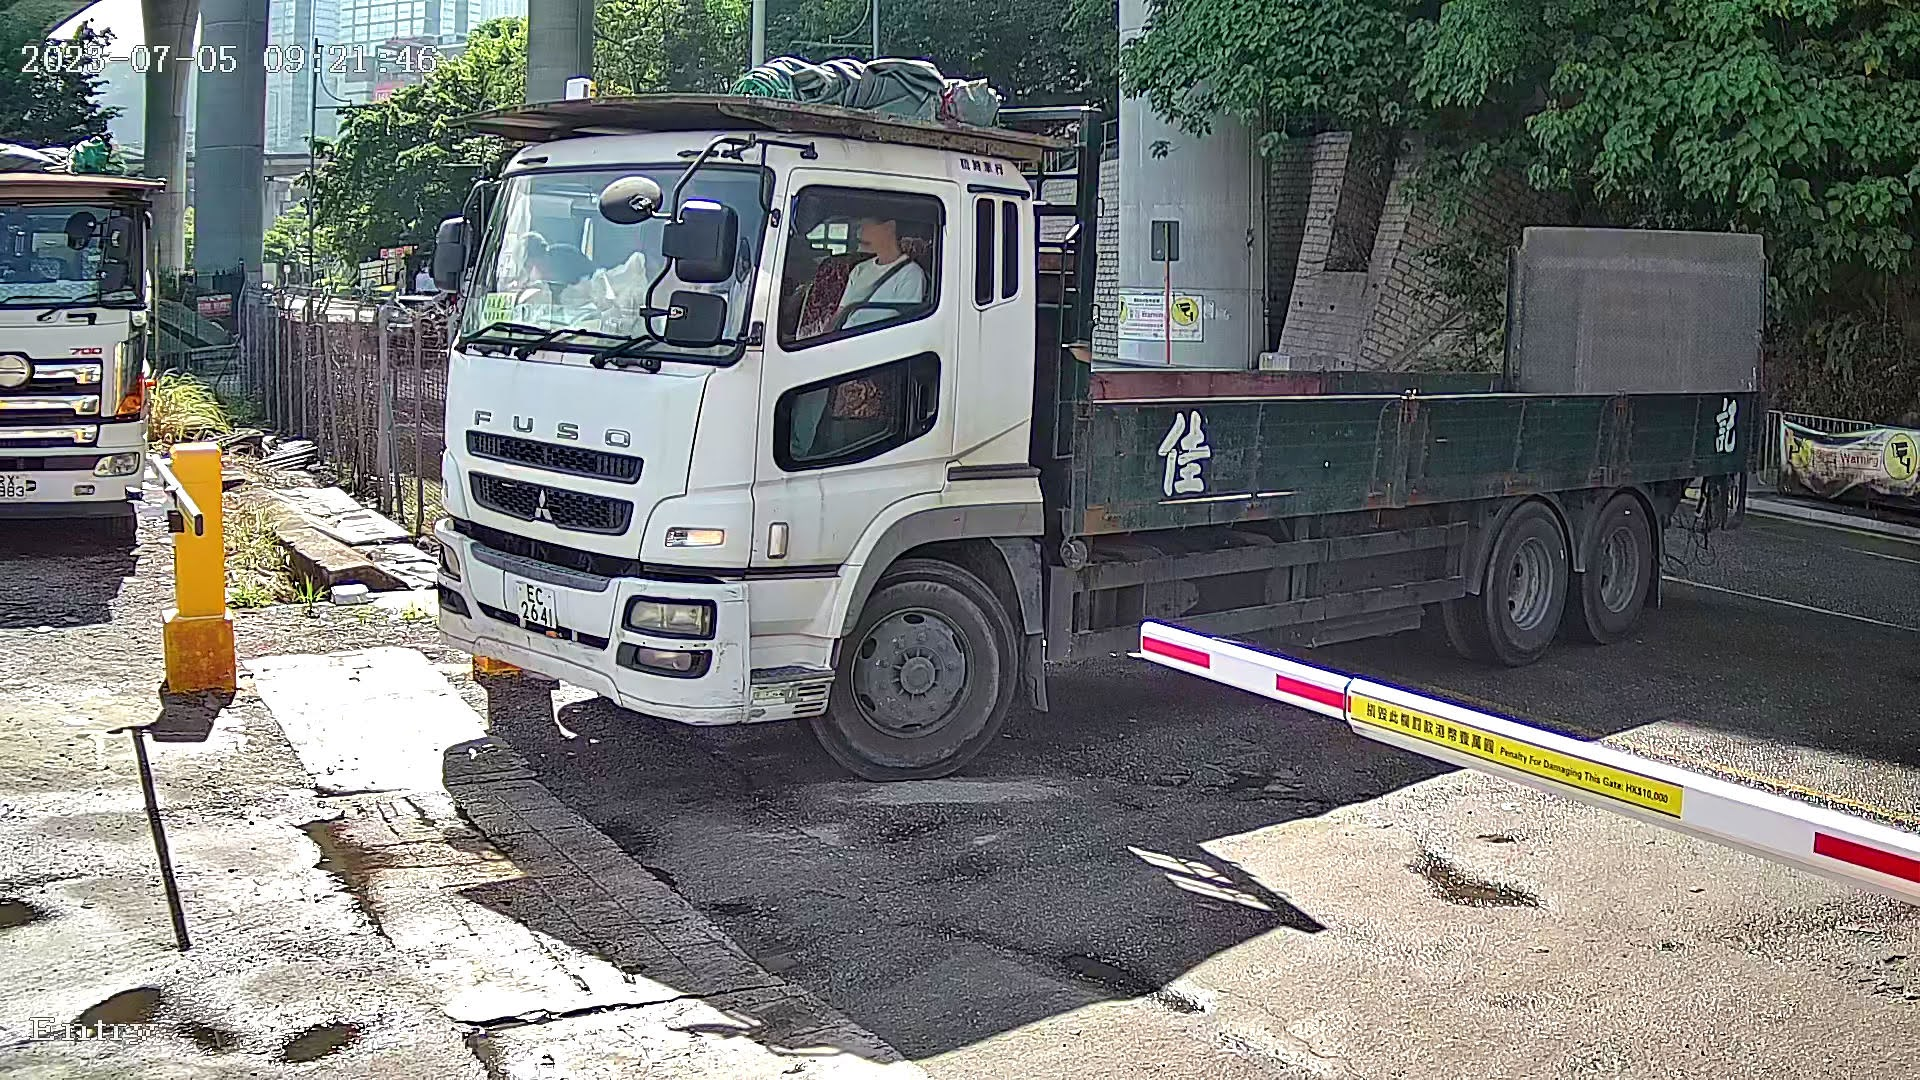truck: (377, 1, 1785, 804)
